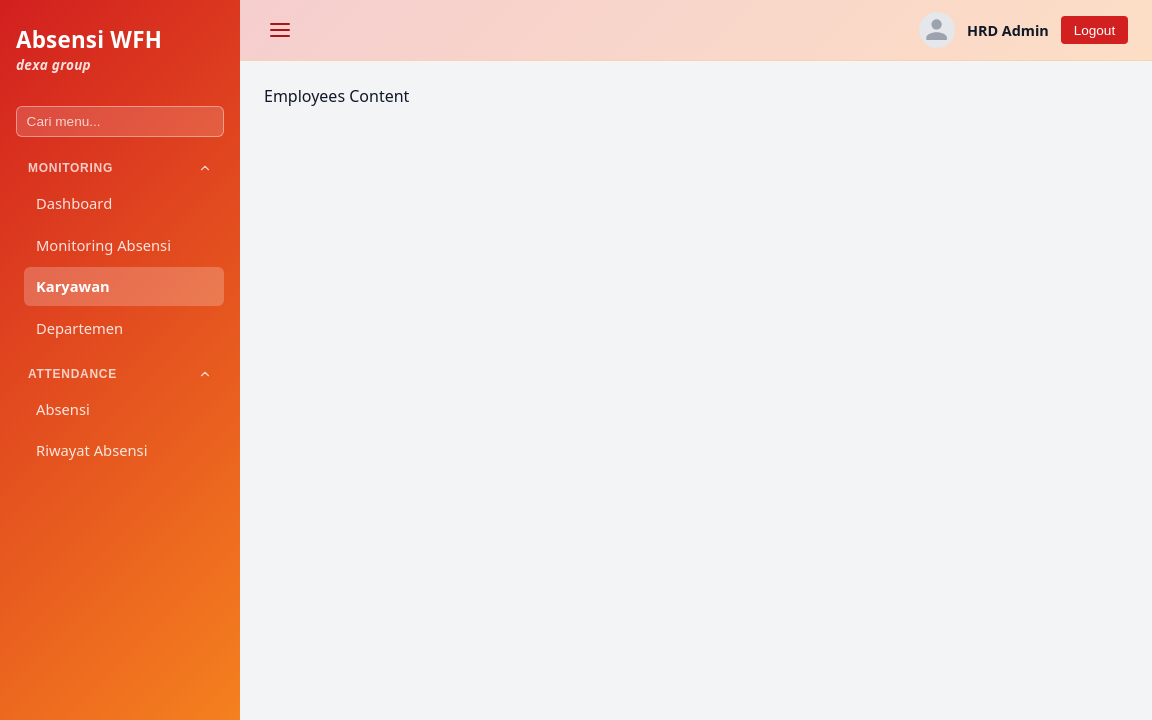
AppLayout › can collapse a group even while currently on one of its own pages
Click the button "Monitoring" at (120, 168), box [16, 153, 224, 183]
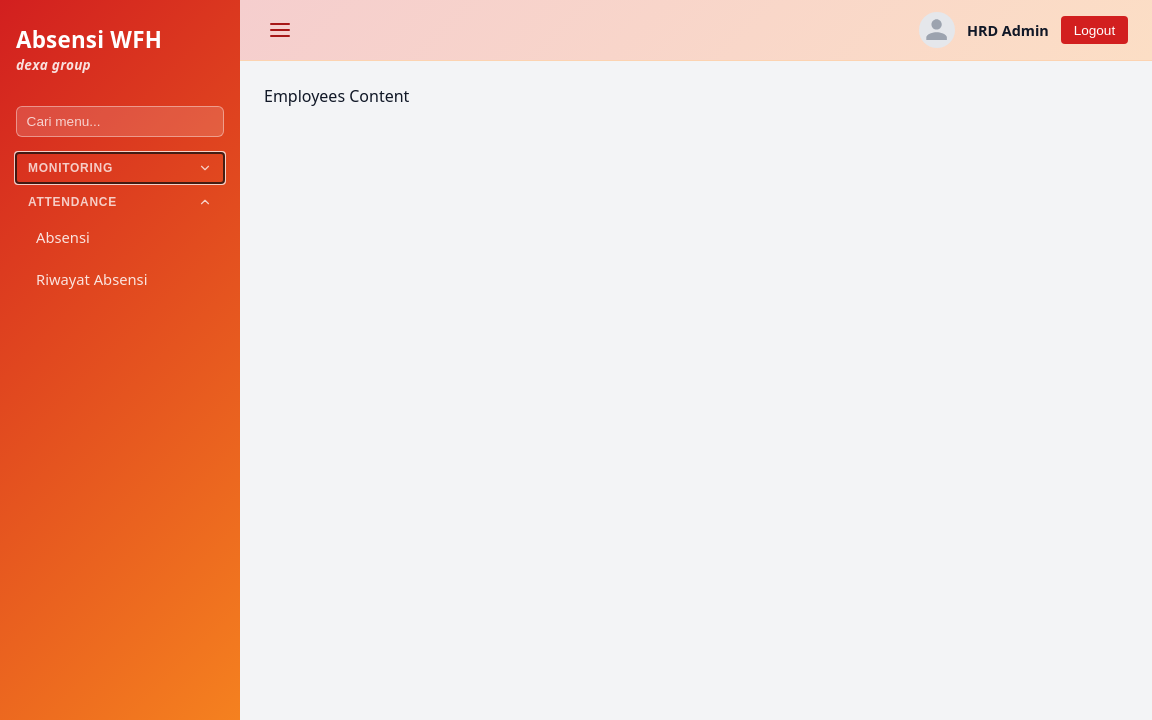
Expected: the link "Karyawan" is gone
